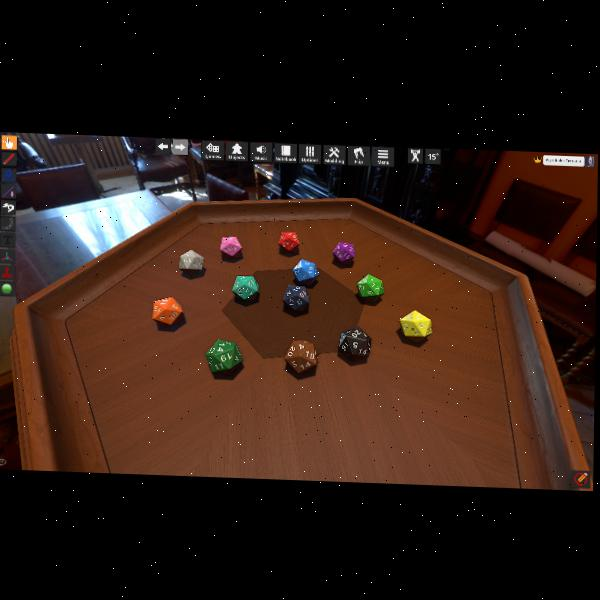d20: (206, 338, 242, 373), (284, 339, 318, 373), (338, 326, 370, 359), (399, 308, 430, 339), (153, 295, 184, 325), (231, 274, 259, 301), (282, 285, 309, 312), (357, 273, 383, 299), (291, 258, 317, 284), (180, 248, 205, 272), (333, 240, 354, 263), (220, 235, 241, 258), (279, 231, 300, 253)
